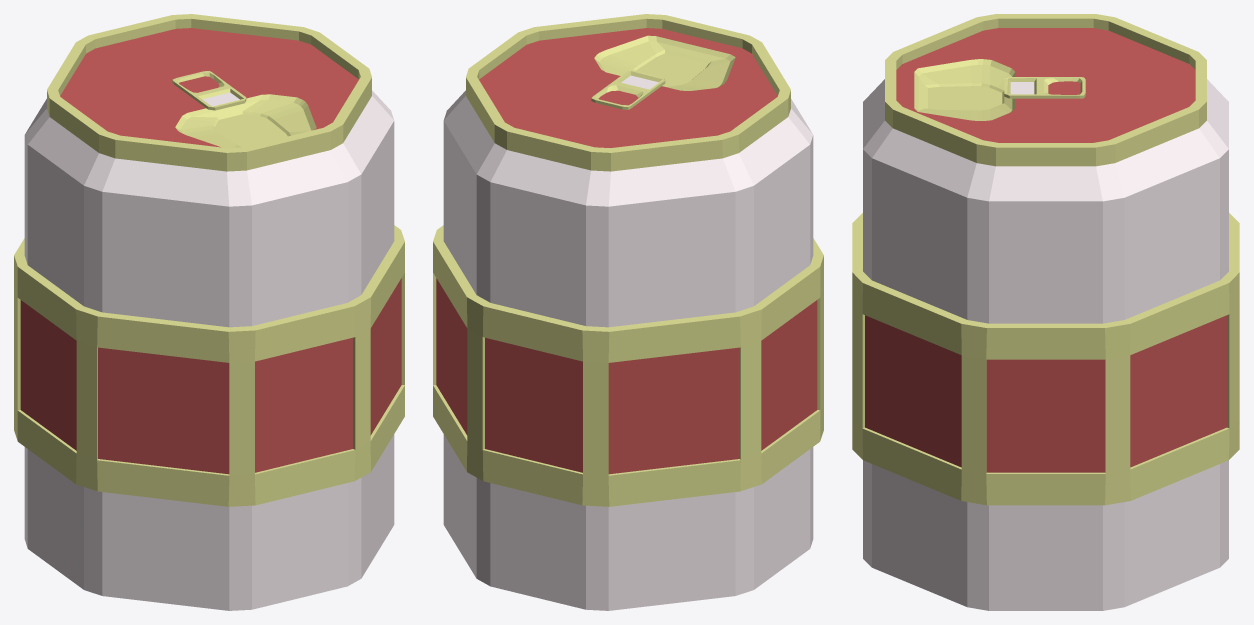
File: biertje.fbx
3 views of the same model, side by side, from view 1: azimuth 30°, elevation 25°; view 2: azimuth 150°, elevation 25°; view 3: azimuth 270°, elevation 25° (orthographic).
Parts seen in each view (by area): view 1: Cube, Cube.001; view 2: Cube, Cube.001; view 3: Cube, Cube.001.
Part boxes in pixels (x1=…): Cube: x1=14, y1=14, x2=404, y2=610; Cube.001: x1=172, y1=71, x2=246, y2=110; Cube: x1=433, y1=14, x2=823, y2=610; Cube.001: x1=591, y1=70, x2=665, y2=109; Cube: x1=852, y1=14, x2=1239, y2=610; Cube.001: x1=1004, y1=77, x2=1085, y2=98.
Bounding box in the file's own units: 177 × 233 × 180.
